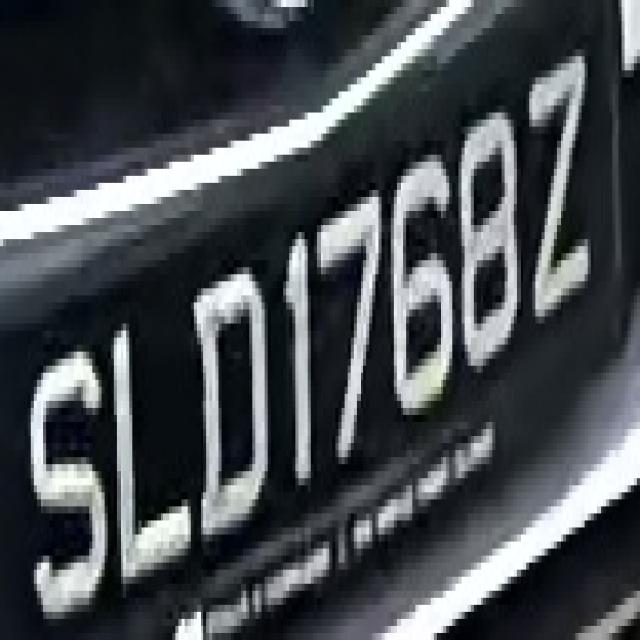1: (274, 197, 317, 506)
6: (384, 155, 462, 422)
7: (314, 169, 391, 471)
8: (446, 91, 529, 394)
D: (188, 260, 277, 549)
L: (114, 302, 191, 591)
S: (21, 330, 110, 626)
Z: (517, 28, 591, 324)
